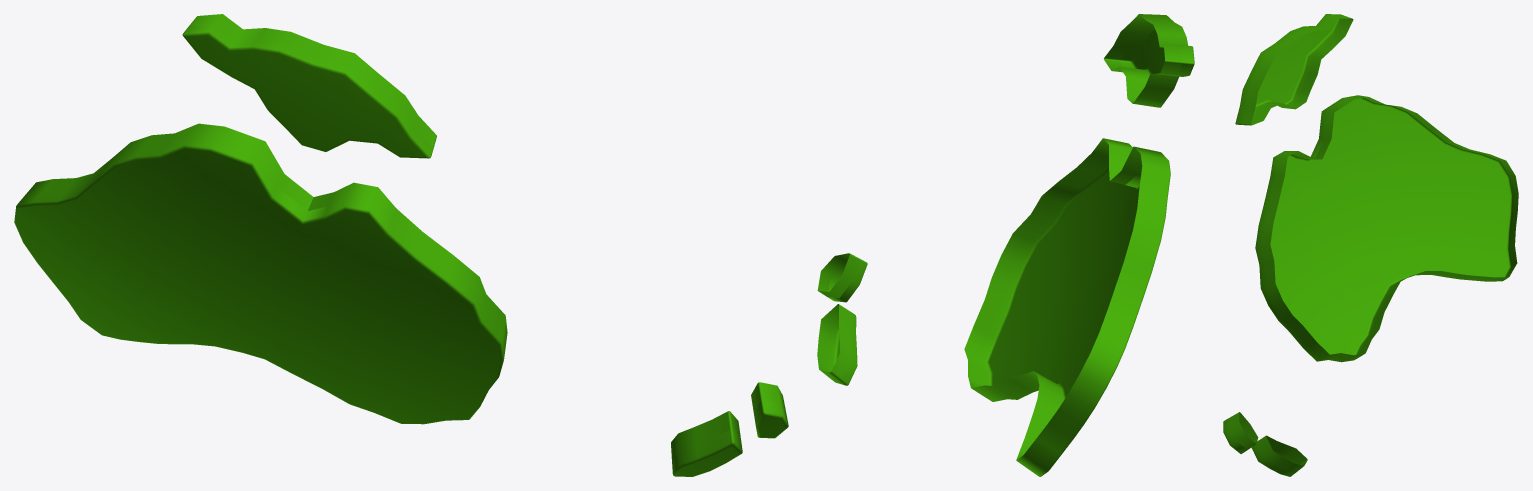
3 views of the same model, side by side, from view 1: azimuth 30°, elevation 25°; view 2: azimuth 150°, elevation 25°; view 3: azimuth 270°, elevation 25° (orthographic). The views are drawn at different scales.
Visible parts, largest first — view 1: c4; view 2: c4; view 3: c4.
Boxes of the visible parts, bbox=[...] form: c4: bbox=[14, 14, 788, 476]; c4: bbox=[817, 14, 1194, 476]; c4: bbox=[1223, 14, 1518, 476].
Bounding box in the file's own units: 0.6383 × 0.5865 × 0.4761.
